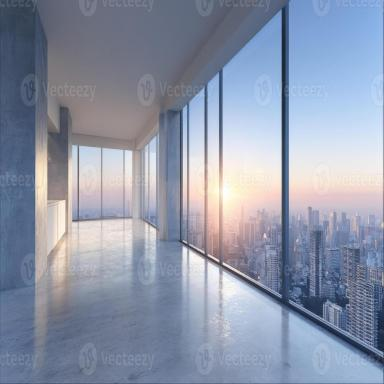glass_panel: (292, 2, 382, 355), (224, 12, 282, 294), (188, 87, 205, 252), (208, 73, 219, 261), (79, 146, 99, 220), (182, 104, 189, 244), (63, 108, 71, 225), (117, 149, 129, 216), (149, 135, 157, 227), (125, 148, 134, 216), (143, 147, 150, 220), (71, 144, 75, 220)
